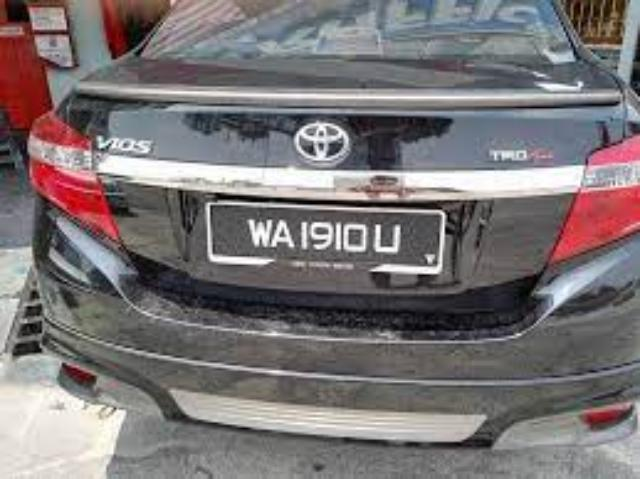License_Plate: (201, 194, 461, 284)
car: (24, 8, 640, 449)
